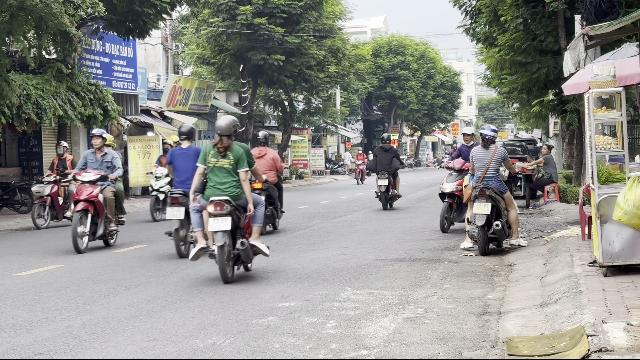helmet: (213, 114, 239, 142), (176, 123, 196, 143), (478, 124, 498, 144), (88, 128, 106, 150), (254, 130, 270, 146), (54, 140, 68, 156)
licenseplate: (208, 217, 232, 231), (166, 207, 184, 219), (473, 202, 491, 213)
motorcyclist: (194, 113, 270, 281), (462, 122, 522, 255), (66, 128, 126, 252), (161, 121, 205, 257), (29, 139, 75, 229), (248, 130, 286, 232)
nohelmet: (462, 124, 474, 144)
